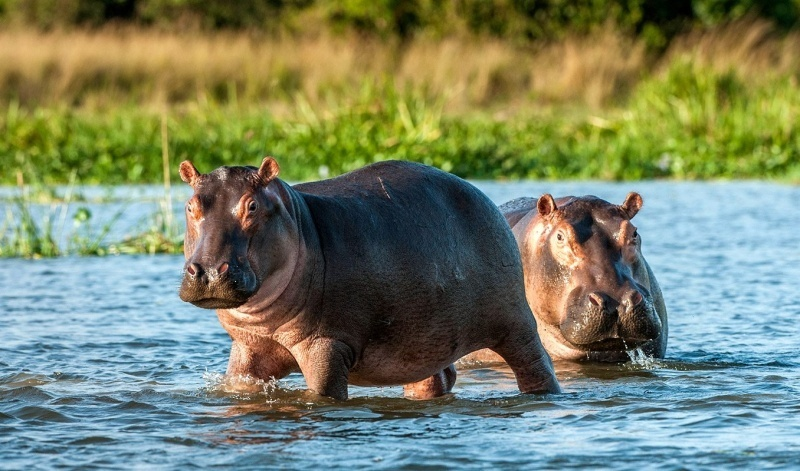hipopotamo: (171, 152, 561, 423), (483, 174, 667, 381)
